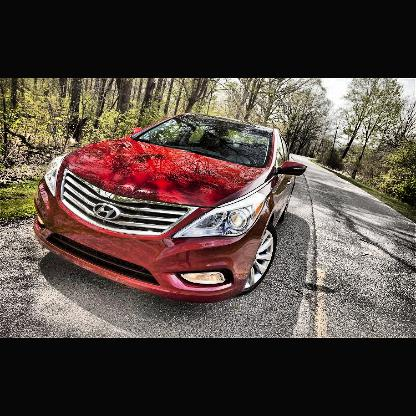Hyundai Azera Sedan 2012: (34, 112, 310, 305)
